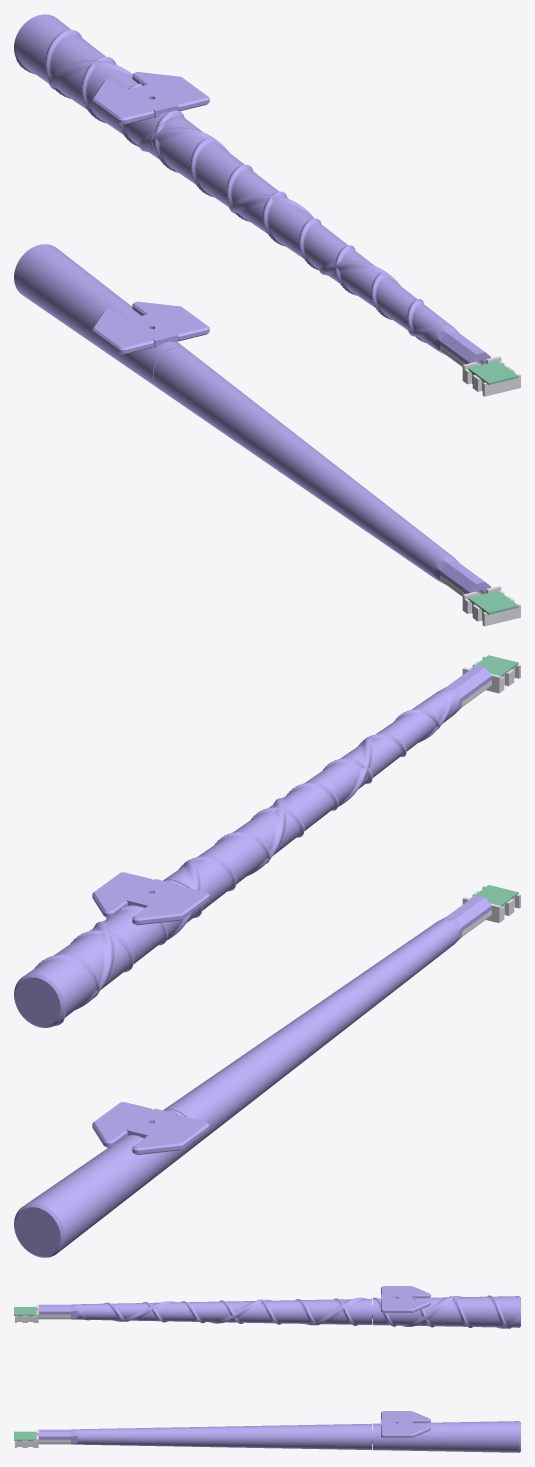
The model's file is assembly-tapered-xiao.glb.
The picture shows the model from 3 angles, top to bottom: view 1: azimuth 30°, elevation 25°; view 2: azimuth 150°, elevation 25°; view 3: azimuth 270°, elevation 25°; orthographic projection. The views are drawn at different scales.
Parts seen in each view (by area): view 1: tapered-xiao-spiral/handle-tapered-spiral, tapered-xiao-smooth/handle-tapered-smooth, tapered-xiao-spiral/shaft-lower-tapered-spiral, tapered-xiao-smooth/shaft-lower-tapered-smooth, tapered-xiao-spiral/shaft-upper-tapered-spiral, tapered-xiao-smooth/shaft-upper-tapered-smooth, tapered-xiao-spiral/tip-xiao, tapered-xiao-smooth/tip-xiao, tapered-xiao-smooth/xiao-board-reference, tapered-xiao-spiral/xiao-board-reference; view 2: tapered-xiao-spiral/handle-tapered-spiral, tapered-xiao-smooth/handle-tapered-smooth, tapered-xiao-spiral/shaft-lower-tapered-spiral, tapered-xiao-smooth/shaft-lower-tapered-smooth, tapered-xiao-spiral/shaft-upper-tapered-spiral, tapered-xiao-smooth/shaft-upper-tapered-smooth, tapered-xiao-spiral/tip-xiao, tapered-xiao-smooth/tip-xiao; view 3: tapered-xiao-spiral/handle-tapered-spiral, tapered-xiao-smooth/handle-tapered-smooth, tapered-xiao-spiral/shaft-lower-tapered-spiral, tapered-xiao-smooth/shaft-lower-tapered-smooth, tapered-xiao-spiral/shaft-upper-tapered-spiral, tapered-xiao-smooth/shaft-upper-tapered-smooth, tapered-xiao-spiral/tip-xiao, tapered-xiao-smooth/tip-xiao, tapered-xiao-smooth/xiao-board-reference.
Part boxes in pixels (<box>): tapered-xiao-spiral/handle-tapered-spiral: <box>14,14,209,158</box>; tapered-xiao-smooth/handle-tapered-smooth: <box>14,244,209,388</box>; tapered-xiao-spiral/shaft-lower-tapered-spiral: <box>152,118,336,270</box>; tapered-xiao-smooth/shaft-lower-tapered-smooth: <box>153,347,336,496</box>; tapered-xiao-spiral/shaft-upper-tapered-spiral: <box>311,235,490,364</box>; tapered-xiao-smooth/shaft-upper-tapered-smooth: <box>311,465,490,593</box>; tapered-xiao-spiral/tip-xiao: <box>440,346,520,396</box>; tapered-xiao-smooth/tip-xiao: <box>440,576,520,626</box>; tapered-xiao-smooth/xiao-board-reference: <box>468,590,518,614</box>; tapered-xiao-spiral/xiao-board-reference: <box>468,361,518,384</box>; tapered-xiao-spiral/handle-tapered-spiral: <box>14,872,209,1027</box>; tapered-xiao-smooth/handle-tapered-smooth: <box>14,1102,209,1257</box>; tapered-xiao-spiral/shaft-lower-tapered-spiral: <box>163,772,343,919</box>; tapered-xiao-smooth/shaft-lower-tapered-smooth: <box>163,1002,343,1149</box>; tapered-xiao-spiral/shaft-upper-tapered-spiral: <box>318,665,491,806</box>; tapered-xiao-smooth/shaft-upper-tapered-smooth: <box>318,895,491,1033</box>; tapered-xiao-spiral/tip-xiao: <box>462,656,520,706</box>; tapered-xiao-smooth/tip-xiao: <box>461,886,520,937</box>; tapered-xiao-spiral/handle-tapered-spiral: <box>372,1286,520,1328</box>; tapered-xiao-smooth/handle-tapered-smooth: <box>372,1411,520,1452</box>; tapered-xiao-spiral/shaft-lower-tapered-spiral: <box>206,1297,372,1325</box>; tapered-xiao-smooth/shaft-lower-tapered-smooth: <box>206,1423,372,1449</box>; tapered-xiao-spiral/shaft-upper-tapered-spiral: <box>39,1301,205,1323</box>; tapered-xiao-smooth/shaft-upper-tapered-smooth: <box>39,1427,205,1446</box>; tapered-xiao-spiral/tip-xiao: <box>15,1304,70,1322</box>; tapered-xiao-smooth/tip-xiao: <box>15,1429,70,1447</box>; tapered-xiao-smooth/xiao-board-reference: <box>14,1431,36,1440</box>.
Bounding box in the file's own units: 0.0537 × 0.1607 × 0.4779.
